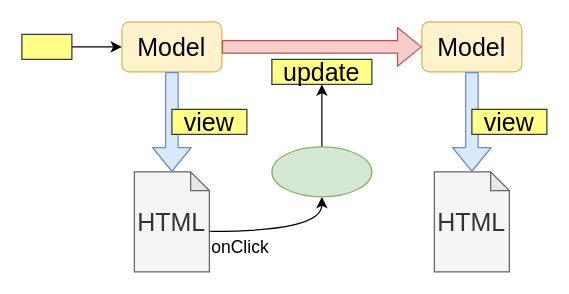
Image size: 569x294. Some labels were removed from this diagram. Here are the shapes that lost their labels. From the top down, the box of each, then its label:
(21, 33, 72, 59): init
(271, 146, 372, 197): Msg
